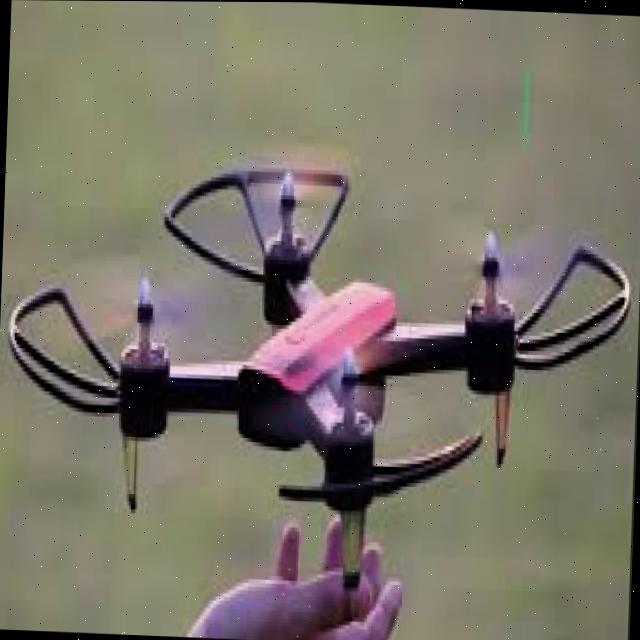drone: (0, 125, 640, 606)
